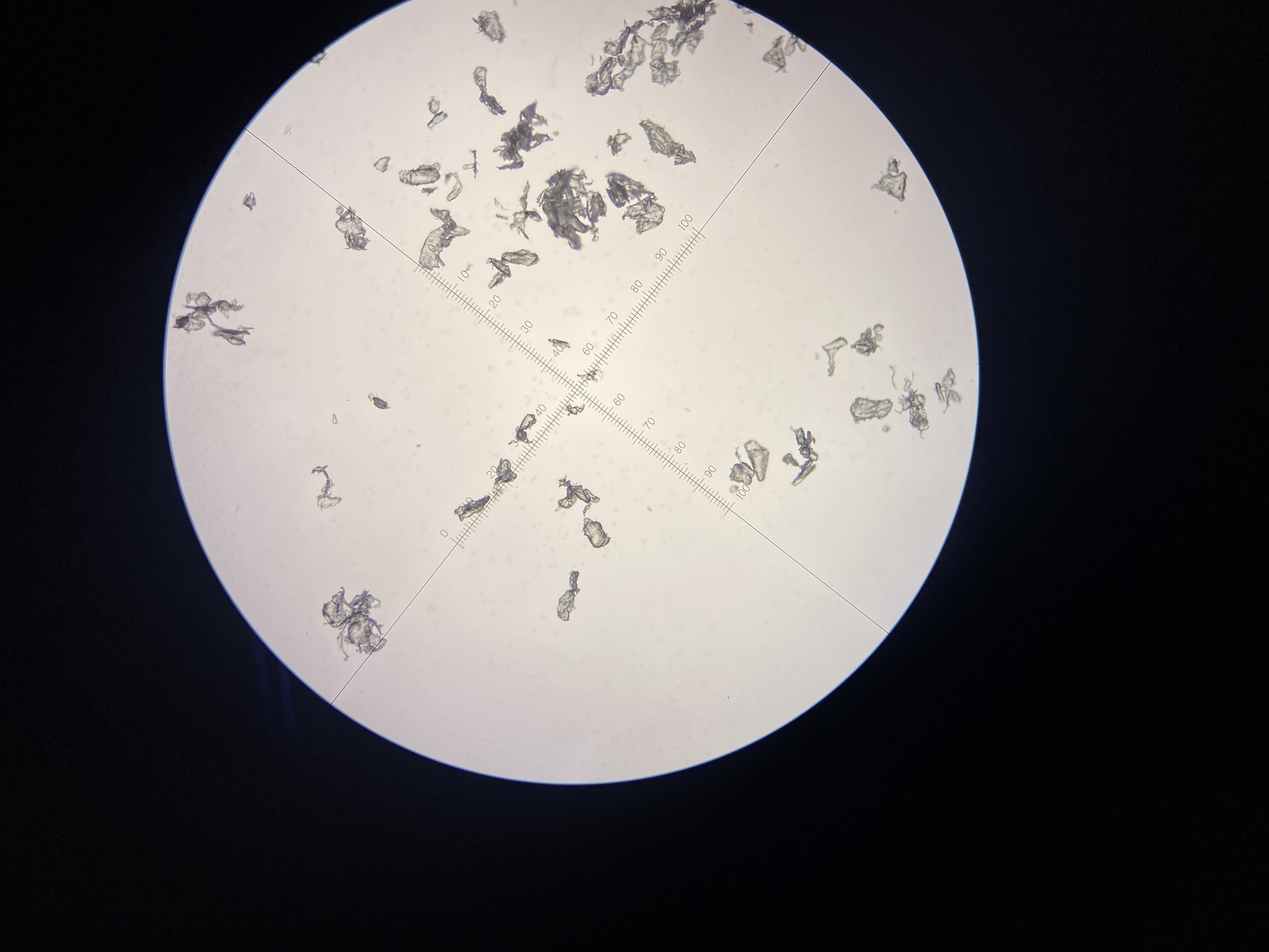microplastic: (585, 0, 718, 97), (536, 168, 606, 251), (322, 587, 387, 661), (172, 292, 255, 346), (493, 101, 554, 171), (604, 171, 665, 235), (419, 208, 471, 270), (491, 181, 542, 241), (638, 119, 697, 166), (894, 370, 929, 440), (486, 249, 540, 289), (782, 428, 818, 487), (554, 474, 601, 517), (762, 34, 807, 74), (473, 66, 507, 116), (335, 205, 371, 251), (398, 162, 440, 197), (874, 158, 907, 202), (311, 465, 342, 511), (934, 368, 961, 413), (850, 397, 893, 424), (472, 10, 506, 44), (557, 571, 580, 621), (850, 324, 883, 357), (744, 440, 769, 482), (821, 337, 847, 377), (454, 495, 491, 521), (491, 458, 517, 493), (581, 518, 611, 548), (508, 414, 536, 445), (426, 96, 448, 130), (606, 129, 633, 156), (729, 461, 755, 485), (444, 172, 463, 202), (463, 149, 479, 180), (369, 393, 391, 409), (577, 370, 603, 383), (374, 156, 392, 173), (242, 192, 257, 212), (548, 338, 570, 349), (566, 404, 584, 416), (890, 365, 898, 391), (333, 413, 338, 425)
